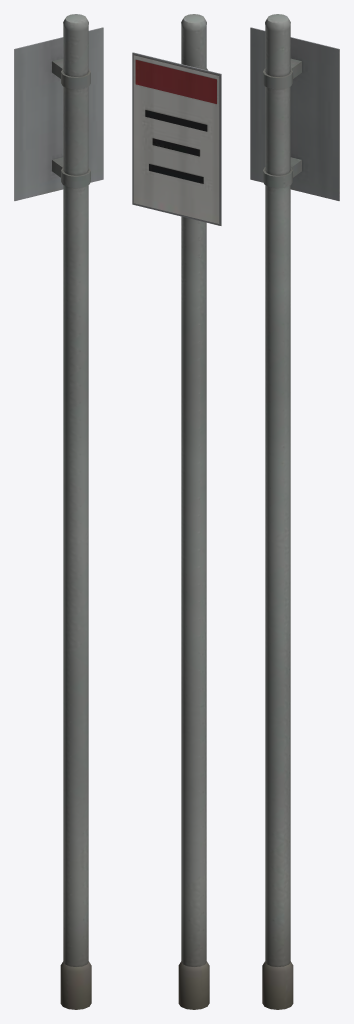
File: signPole-v2.glb
3 views of the same model, side by side, from view 1: azimuth 30°, elevation 25°; view 2: azimuth 150°, elevation 25°; view 3: azimuth 330°, elevation 25° (orthographic).
Visible parts, largest first — view 1: signPole; view 2: signPole; view 3: signPole.
Boxes of the visible parts, x1,y1,x2,y2 form: signPole: (14,14,103,1009); signPole: (132,14,221,1009); signPole: (250,14,339,1009).
Size of the model in its own units: 0.245 by 2.6 by 0.1222.
Materials: 1 (1 with a texture image).
